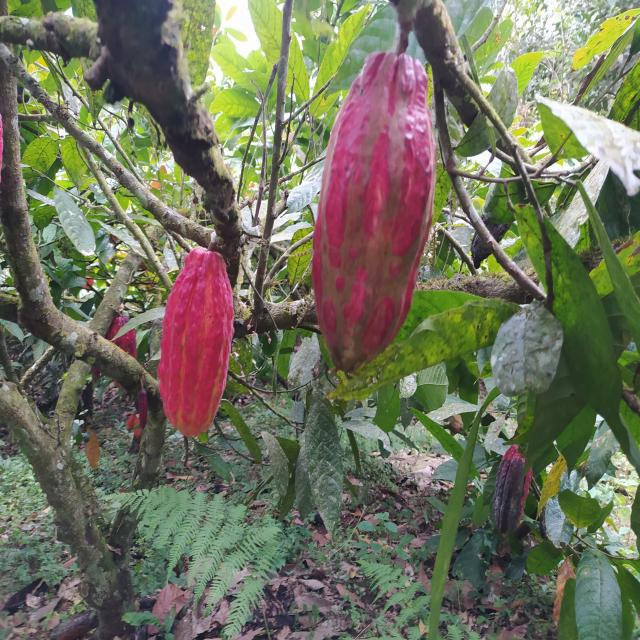Fitoftora: (494, 444, 532, 536)
Sana: (314, 51, 438, 374), (159, 250, 234, 439), (108, 315, 136, 361), (137, 389, 148, 429), (126, 413, 135, 431), (134, 417, 141, 440)
